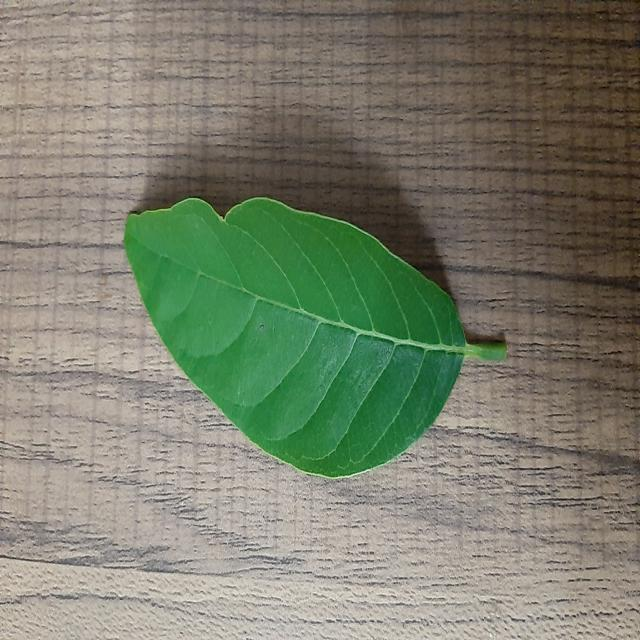seethaphala: (125, 198, 505, 477)
